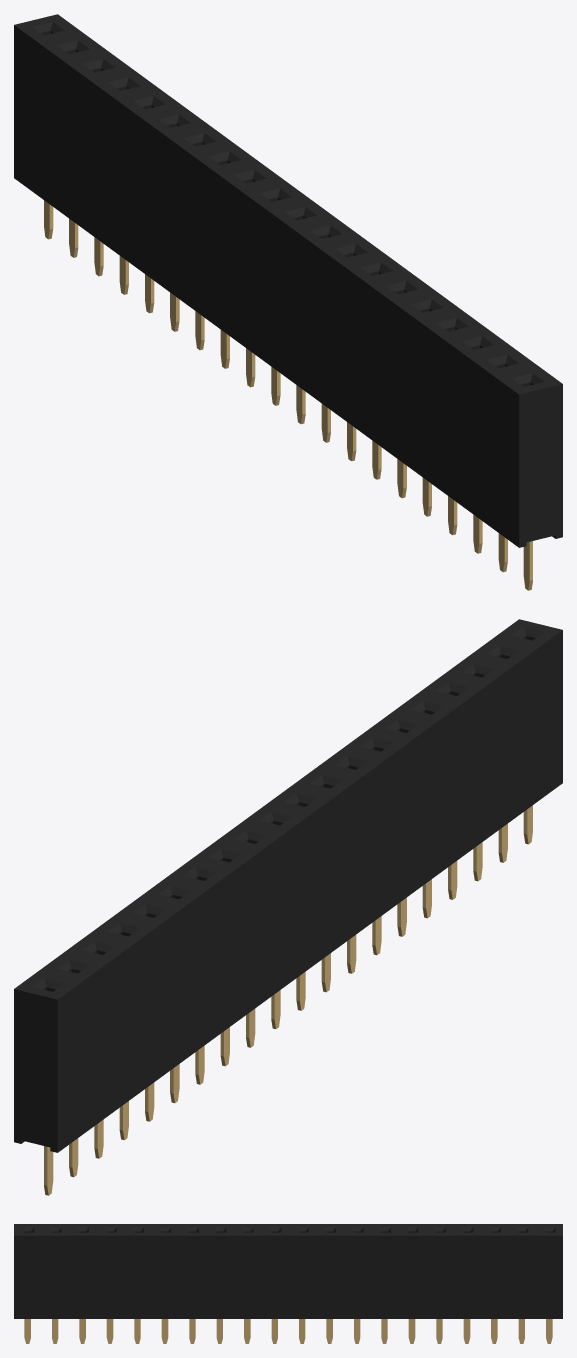
The model's file is kc-pinsocket_1x20_p2.54mm_vertical.glb.
The picture shows the model from 3 angles, top to bottom: view 1: azimuth 30°, elevation 25°; view 2: azimuth 150°, elevation 25°; view 3: azimuth 270°, elevation 25°; orthographic projection. The views are drawn at different scales.
Parts seen in each view (by area): view 1: 0_0_0_0, 0.75_0.5_0.25_0.9; view 2: 0_0_0_0, 0.75_0.5_0.25_0.9; view 3: 0_0_0_0, 0.75_0.5_0.25_0.9.
Part boxes in pixels (x1,y1,x2,y2): 0_0_0_0: (14, 14, 562, 547); 0.75_0.5_0.25_0.9: (44, 200, 532, 590); 0_0_0_0: (14, 619, 562, 1152); 0.75_0.5_0.25_0.9: (44, 805, 532, 1195); 0_0_0_0: (14, 1224, 562, 1318); 0.75_0.5_0.25_0.9: (24, 1319, 552, 1343).
Size of the model in its own units: 0.2543 by 1.16 by 5.08.
